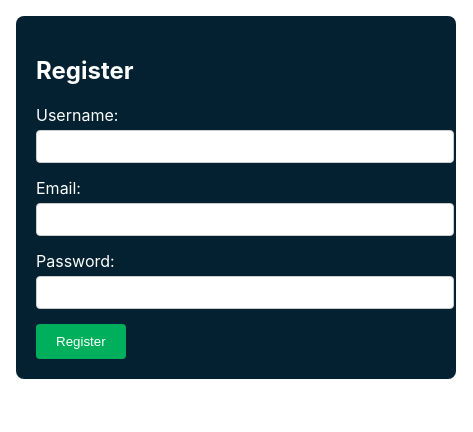
it: Register Component › shows success message on successful registration
Type "testuser" into the field labelled "Username:".
click(245, 146); type("testuser")  # box [36,130,454,163]
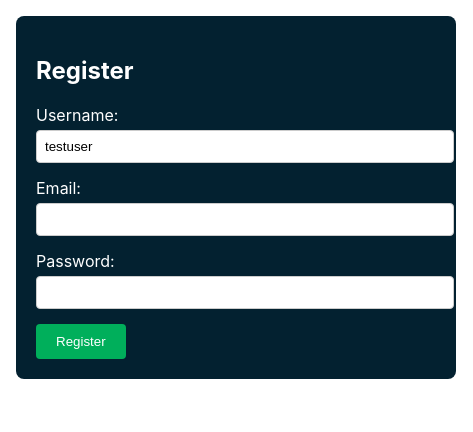
Type "testuser@example.com" into the field labelled "Email:".
click(245, 219); type("testuser@example.com")  # box [36,203,454,236]
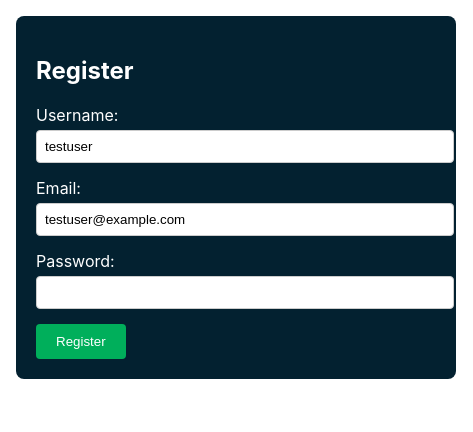
Type "TestPass123" into the password field labelled "Password:".
click(245, 292); type("TestPass123")  # box [36,276,454,309]
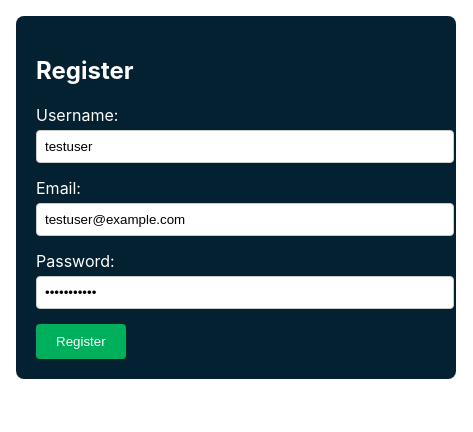
Click the button "Register".
click(81, 341)  # box [36,324,126,359]
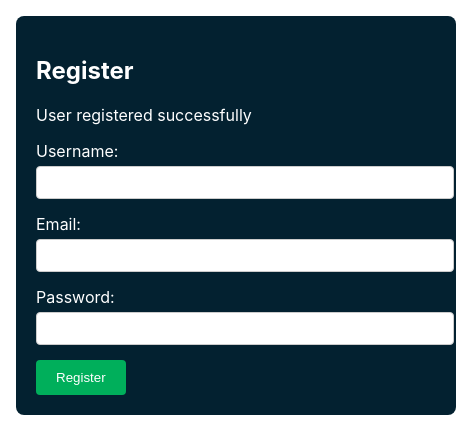
Now the text "User registered successfully" is shown, box [36,105,252,125]
